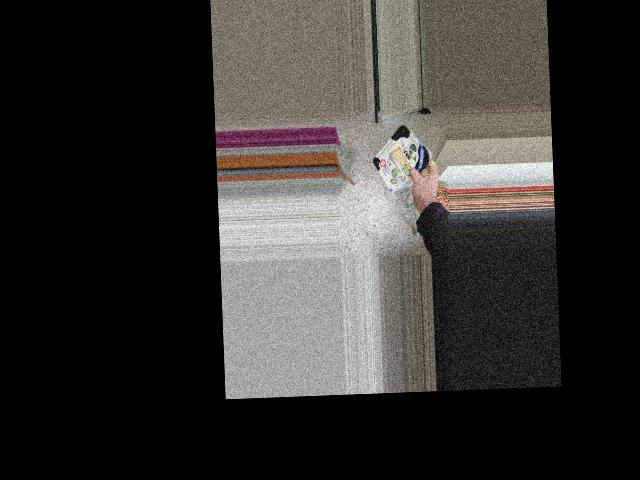cheese: (368, 132, 446, 183)
